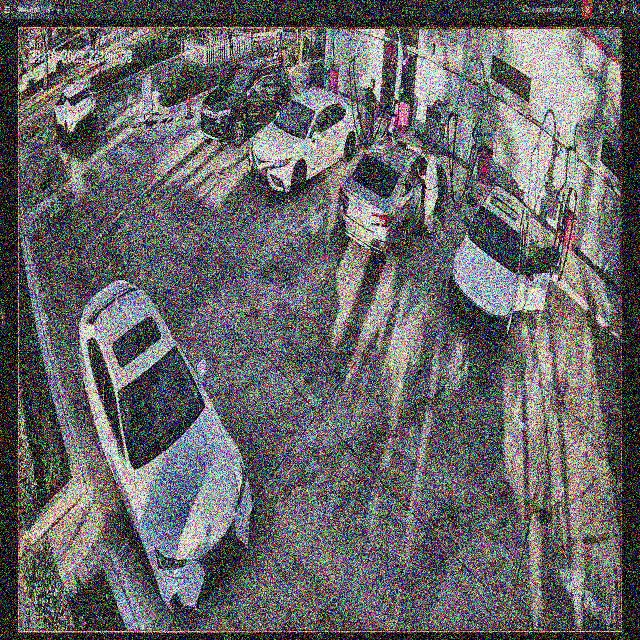Car: (80, 280, 257, 610), (448, 188, 550, 342), (338, 135, 446, 257), (251, 89, 361, 193), (200, 60, 290, 144)
